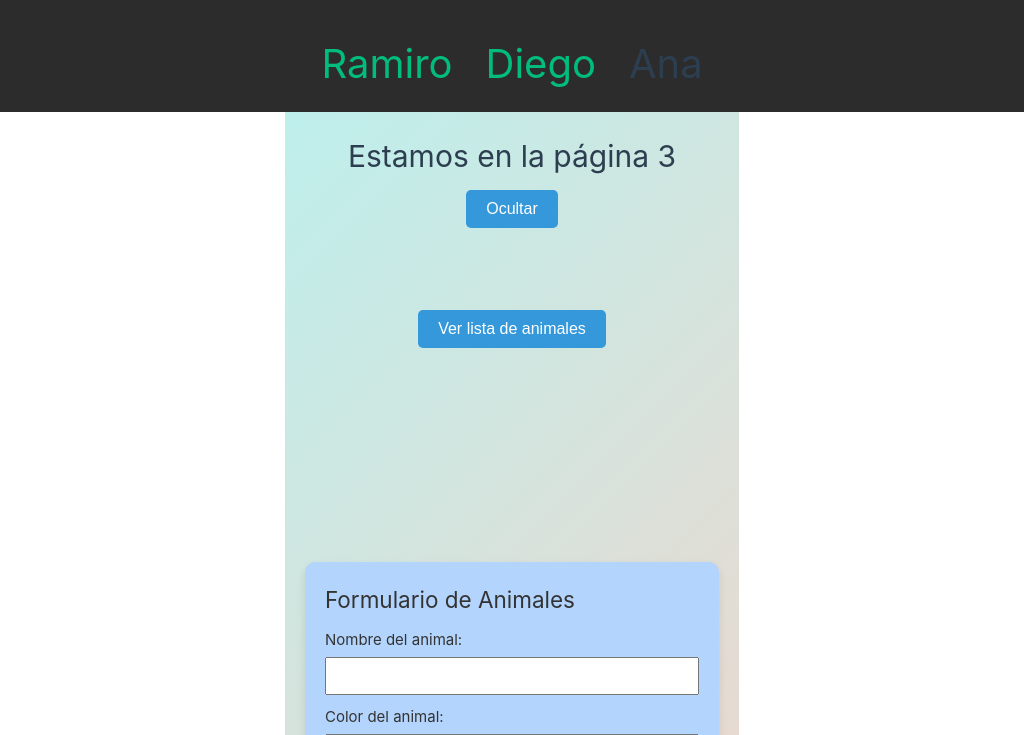
it: Page3View Tests › Debe mostrar y ocultar el mensaje correctamente
Expected: the heading "Estamos en la página 3" is shown, [348, 132, 676, 180]
Click the button "Ocultar".
click(512, 209)  # box [466, 190, 558, 228]
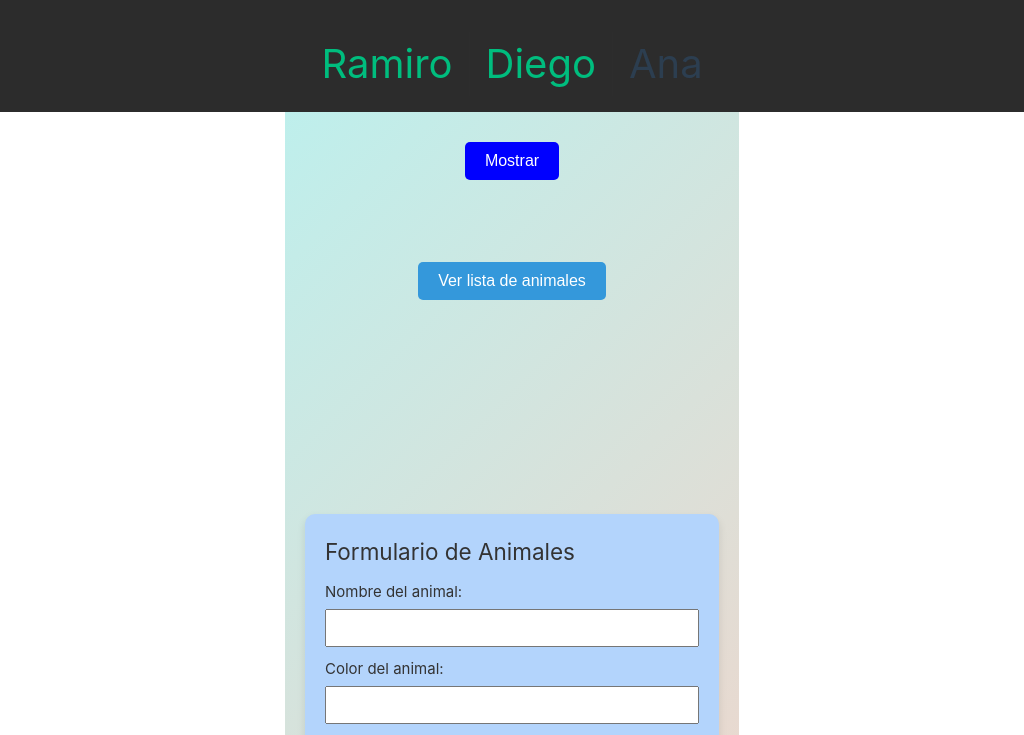
Result: the heading "Estamos en la página 3" is gone
Click the button "Mostrar".
click(512, 161)  # box [465, 142, 559, 180]
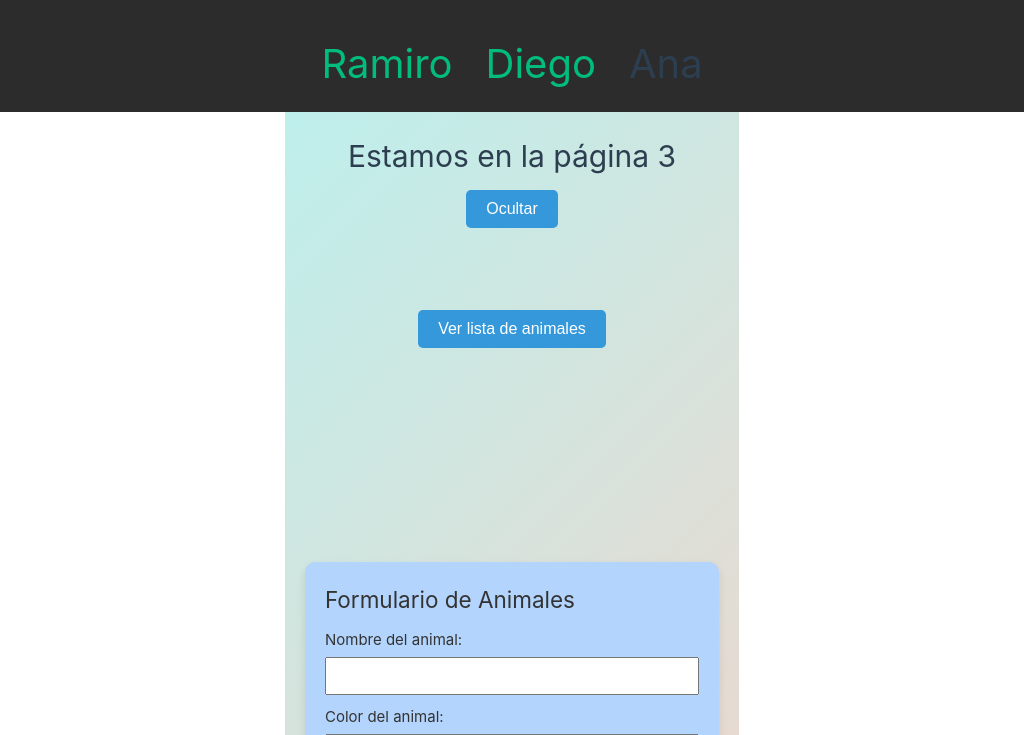
Result: the heading "Estamos en la página 3" is shown at [348, 132, 676, 180]
